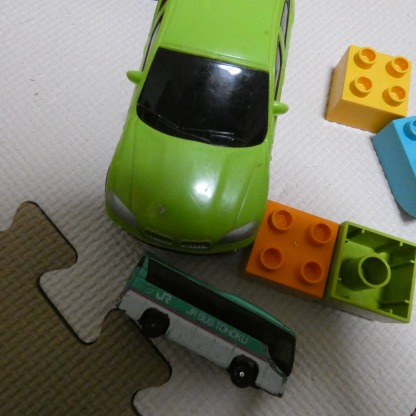car: (103, 0, 297, 254), (127, 255, 301, 399)
